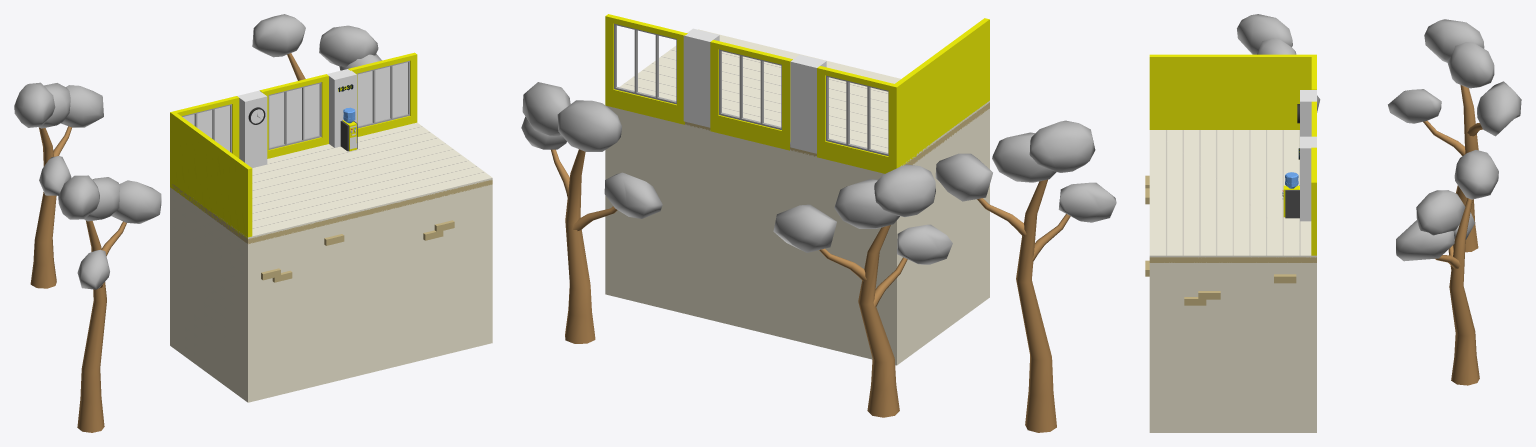
Rendered from gym.glb.
3 views of the same model, side by side, from view 1: azimuth 30°, elevation 25°; view 2: azimuth 150°, elevation 25°; view 3: azimuth 270°, elevation 25° (orthographic). The views are drawn at different scales.
Visible parts, largest first — view 1: Box350, Box341, Box262, Cylinder247, Plane006, Plane005, Cylinder177, Box270, Box250, Sphere024, Sphere022, Box296 (+14 smaller); view 2: Box350, Box341, Box262, Cylinder247, Cylinder177, Cylinder180, Box296, Box299, Box263, Box298, Sphere029, Sphere022 (+15 smaller); view 3: Box350, Box341, Box262, Cylinder180, Sphere024, Sphere020, Sphere022, Sphere017, Sphere021, Sphere018, Sphere029, Sphere019 (+7 smaller).
Part boxes in pixels (<box>): Box350: <box>170,184,492,402</box>; Box341: <box>193,122,492,238</box>; Box262: <box>170,111,252,239</box>; Cylinder247: <box>77,220,106,432</box>; Plane006: <box>357,62,407,125</box>; Plane005: <box>269,83,319,147</box>; Cylinder177: <box>30,127,56,288</box>; Box270: <box>237,90,267,167</box>; Box250: <box>172,179,492,244</box>; Sphere024: <box>319,25,378,66</box>; Sphere022: <box>252,14,305,57</box>; Box296: <box>259,74,328,158</box>; Box350: <box>605,105,989,365</box>; Box341: <box>619,29,989,166</box>; Box262: <box>891,18,989,170</box>; Cylinder247: <box>1016,179,1056,432</box>; Cylinder177: <box>858,225,899,417</box>; Cylinder180: <box>565,149,595,343</box>; Box296: <box>710,40,792,150</box>; Box299: <box>605,14,687,124</box>; Box263: <box>817,66,899,173</box>; Box298: <box>683,28,719,127</box>; Sphere029: <box>1029,120,1095,172</box>; Sphere022: <box>557,100,621,151</box>; Box350: <box>1149,262,1316,432</box>; Box341: <box>1149,130,1316,257</box>; Box262: <box>1149,54,1316,129</box>; Cylinder180: <box>1449,198,1479,385</box>; Sphere024: <box>1416,190,1465,235</box>; Sphere020: <box>1447,42,1494,88</box>; Sphere022: <box>1454,150,1498,199</box>; Sphere017: <box>1477,81,1521,136</box>; Sphere021: <box>1396,220,1454,261</box>; Sphere018: <box>1424,19,1484,62</box>; Sphere029: <box>1237,14,1292,54</box>; Sphere019: <box>1388,89,1441,123</box>.
Size of the model in its own units: 46.57 by 30.69 by 35.47.
14 materials, 4 textured.
